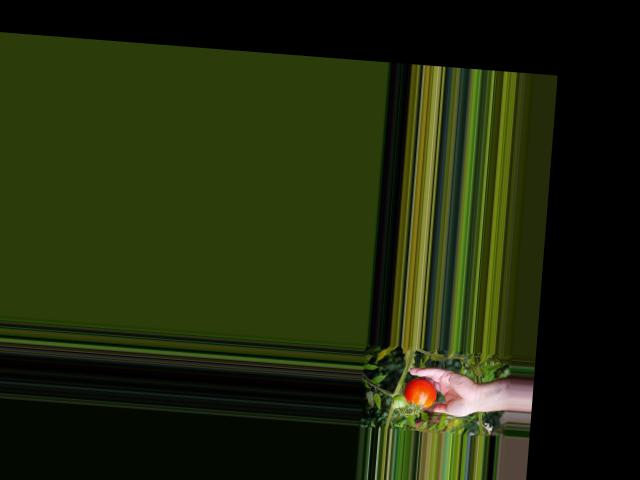tomato: (402, 377, 438, 408)
